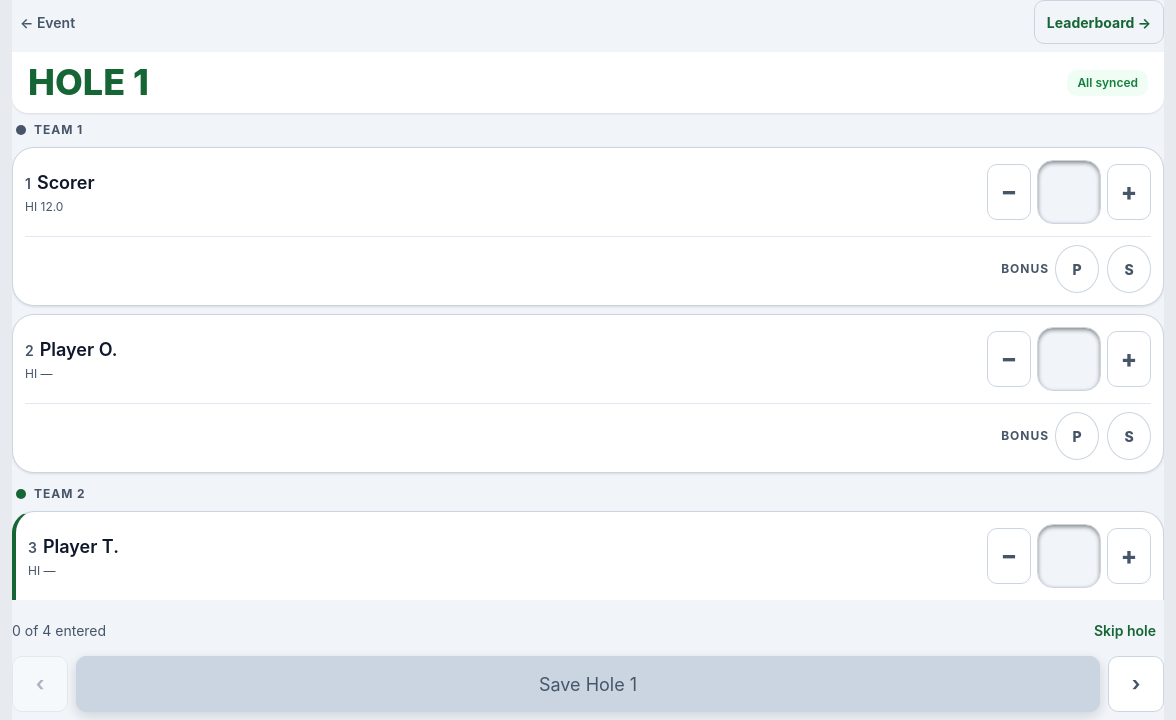
Scenario: ScoreEntryRoute › Skip hole: tap Skip → advances + sessionStorage updated; refetch with hole still missing → UI stays advanced
Expected: the text with test id "current-hole" reads "Hole 1", [28,60,149,104]
Note: Skip hole 1.
What coordinates should you click on to do the following:
click the button with test id "skip-hole"
I would click on:
 (1125, 630)
Its box is [1086,608,1164,652].
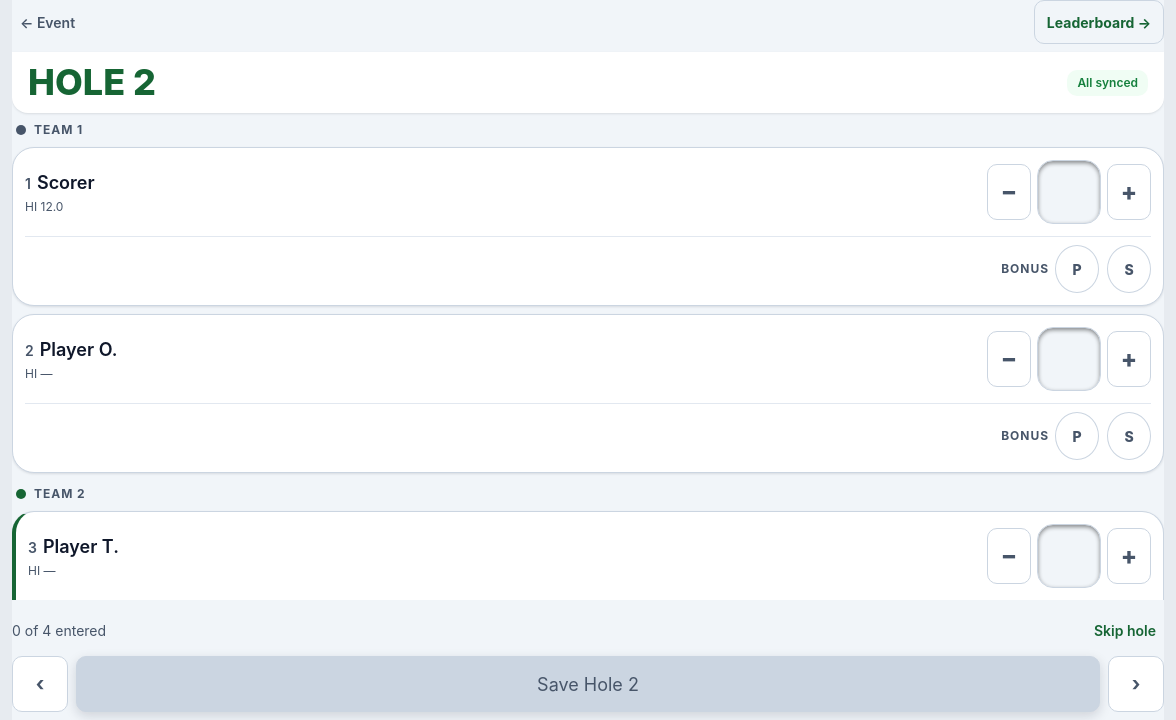
Expected: the text with test id "current-hole" reads "Hole 2", [28,60,156,104]
